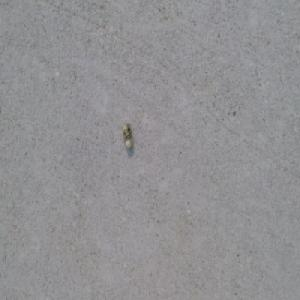BoltNutSet: (122, 121, 134, 148)
